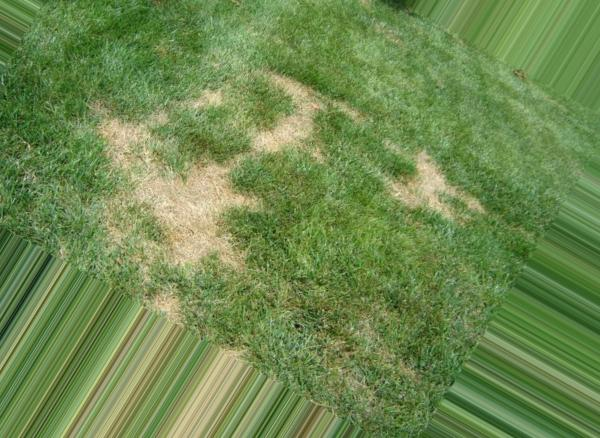patch: (365, 132, 459, 198), (116, 181, 214, 229), (144, 244, 244, 279), (264, 63, 328, 106), (221, 192, 295, 222), (248, 114, 305, 148), (100, 129, 157, 157), (192, 137, 243, 163), (425, 205, 450, 219)
